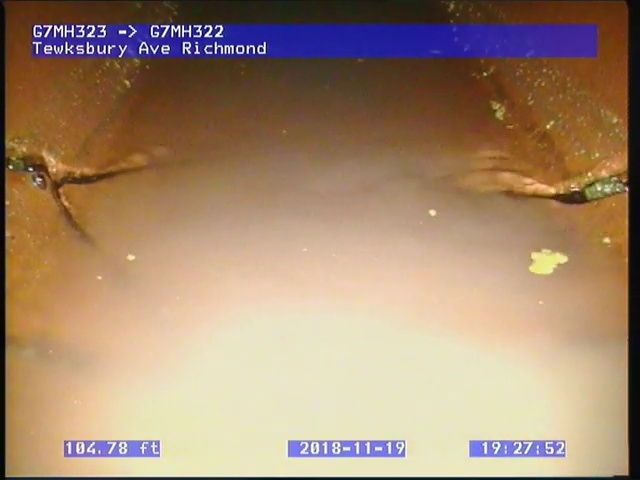crack: (7, 142, 152, 245), (503, 169, 627, 208)
